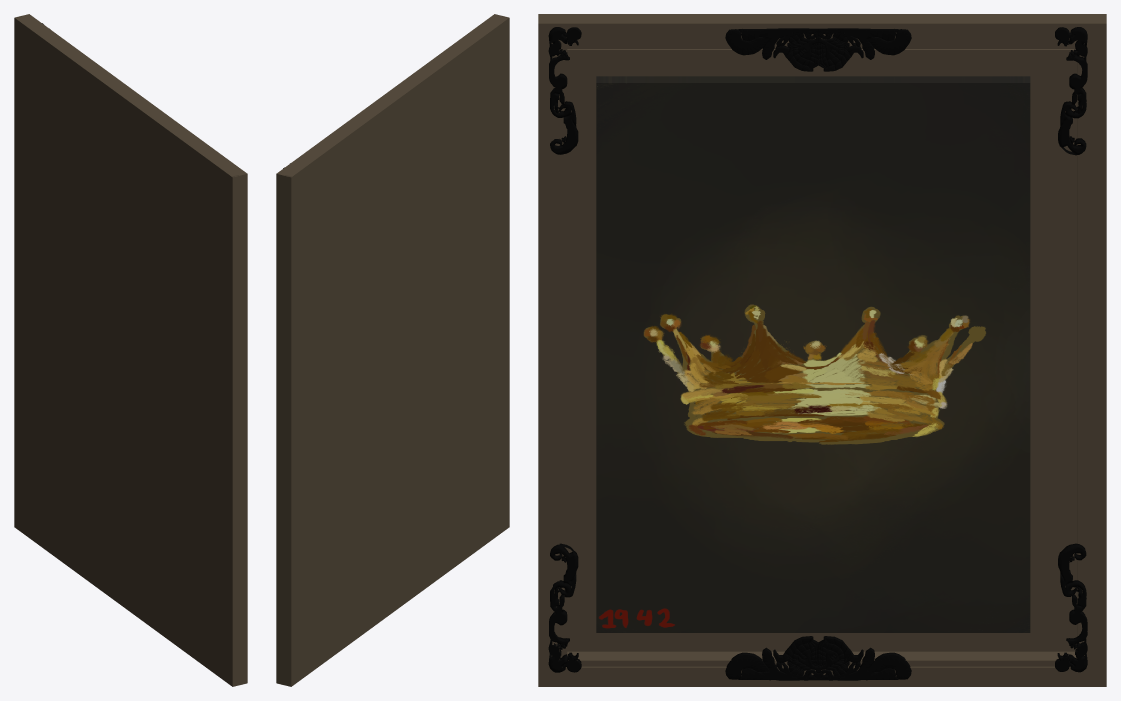
Rendered from photo frame.fbx.
3 views of the same model, side by side, from view 1: azimuth 30°, elevation 25°; view 2: azimuth 150°, elevation 25°; view 3: azimuth 270°, elevation 25° (orthographic). The views are drawn at different scales.
Visible parts, largest first — view 1: Cube; view 2: Cube; view 3: Plane.006, Cube, Plane.001, Plane, Plane.005, Plane.004, Plane.003, Plane.002.
Boxes of the visible parts, <box> form: Cube: <box>14,14,247,686</box>; Cube: <box>276,14,509,686</box>; Plane.006: <box>596,76,1030,632</box>; Cube: <box>538,14,1106,686</box>; Plane.001: <box>725,636,911,680</box>; Plane: <box>725,28,911,71</box>; Plane.005: <box>548,543,581,672</box>; Plane.004: <box>1055,543,1087,672</box>; Plane.003: <box>1055,27,1087,155</box>; Plane.002: <box>548,27,581,154</box>.
Size of the model in its own units: 18.05 by 364 by 283.
